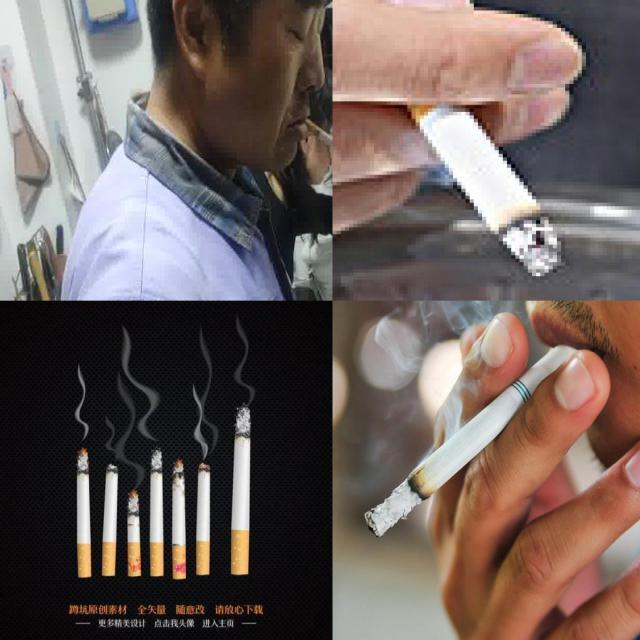smoking: (364, 342, 584, 540), (394, 73, 566, 279), (231, 404, 251, 576), (76, 447, 93, 579), (102, 463, 120, 578), (171, 460, 187, 580), (150, 446, 164, 576), (196, 462, 210, 576), (127, 490, 142, 578), (302, 117, 332, 160)
